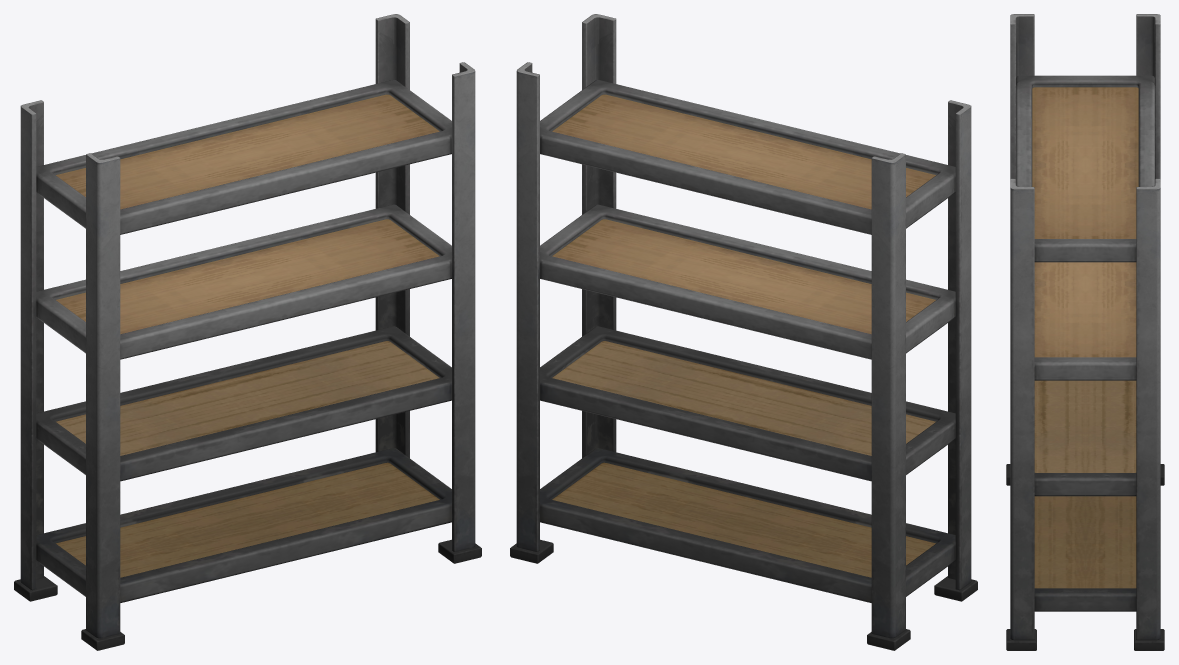
The model's file is MetalShelf1.fbx.
3 views of the same model, side by side, from view 1: azimuth 30°, elevation 25°; view 2: azimuth 150°, elevation 25°; view 3: azimuth 270°, elevation 25° (orthographic). The views are drawn at different scales.
Parts seen in each view (by area): view 1: Sm_MetalShelf_01; view 2: Sm_MetalShelf_01; view 3: Sm_MetalShelf_01.
Boxes of the visible parts, x1,y1,x2,y2 form: Sm_MetalShelf_01: [14, 14, 481, 650]; Sm_MetalShelf_01: [510, 14, 977, 650]; Sm_MetalShelf_01: [1006, 14, 1164, 650].
Bounding box in the file's own units: 111 × 134 × 41.72.
1 material, 1 textured.
